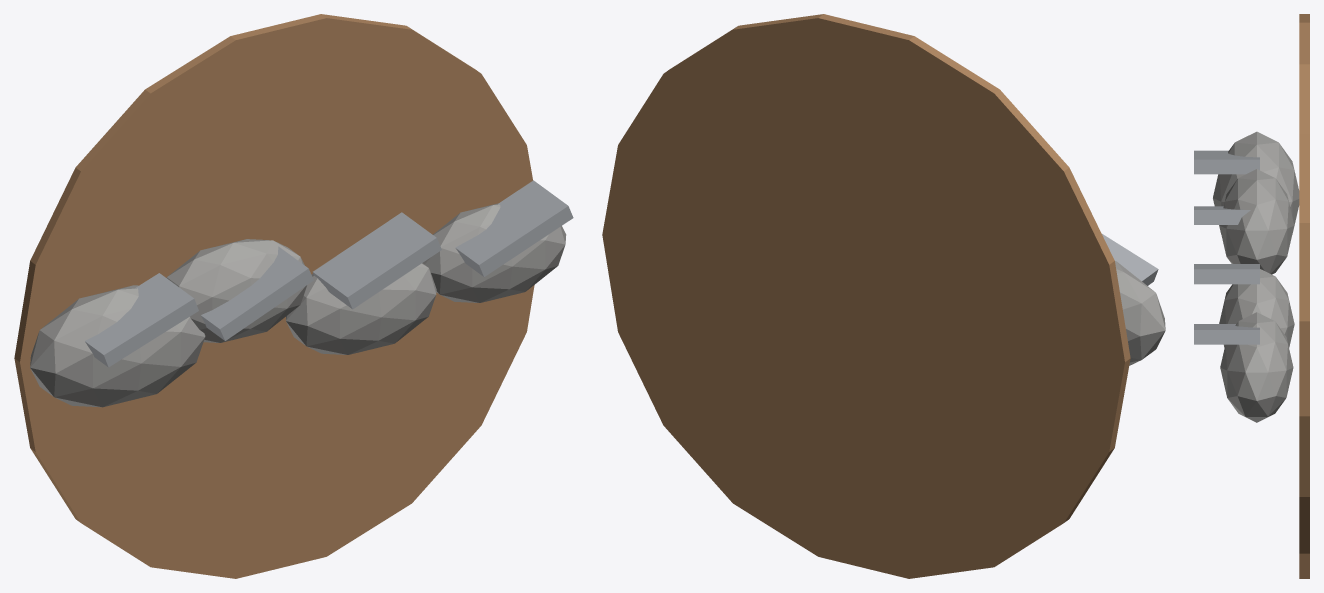
The model's file is 02_display_prop_cluster.glb.
3 renders of one model, left to right at view 1: azimuth 30°, elevation 25°; view 2: azimuth 150°, elevation 25°; view 3: azimuth 270°, elevation 25°, orthographic. The views are drawn at different scales.
Parts seen in each view (by area): view 1: scatter_base, scrap_rock_0, scrap_rock_2, scrap_rock_3, scrap_rock_1, scrap_plate_2, scrap_plate_3, scrap_plate_0, scrap_plate_1; view 2: scatter_base, scrap_rock_0, scrap_plate_0; view 3: scatter_base, scrap_rock_1, scrap_rock_3, scrap_rock_2, scrap_rock_0, scrap_plate_0, scrap_plate_2, scrap_plate_3, scrap_plate_1.
Boxes of the visible parts, x1,y1,x2,y2 form: scatter_base: (14,14,534,578); scrap_rock_0: (30,285,205,407); scrap_rock_2: (286,263,436,354); scrap_rock_3: (422,203,566,302); scrap_rock_1: (166,239,306,342); scrap_plate_2: (313,212,441,309); scrap_plate_3: (455,180,573,276); scrap_plate_0: (85,273,198,367); scrap_plate_1: (201,246,313,340); scatter_base: (602,14,1130,578); scrap_rock_0: (1115,261,1165,365); scrap_plate_0: (1102,234,1158,285); scatter_base: (1299,14,1309,578); scrap_rock_1: (1219,169,1294,274); scrap_rock_3: (1220,312,1293,422); scrap_rock_2: (1219,269,1294,347); scrap_rock_0: (1213,131,1299,234); scrap_plate_0: (1194,150,1259,174); scrap_plate_2: (1194,264,1259,284); scrap_plate_3: (1194,324,1259,344); scrap_plate_1: (1194,206,1250,224).
Bounding box in the file's own units: 1.95 × 1.87 × 0.3875.
